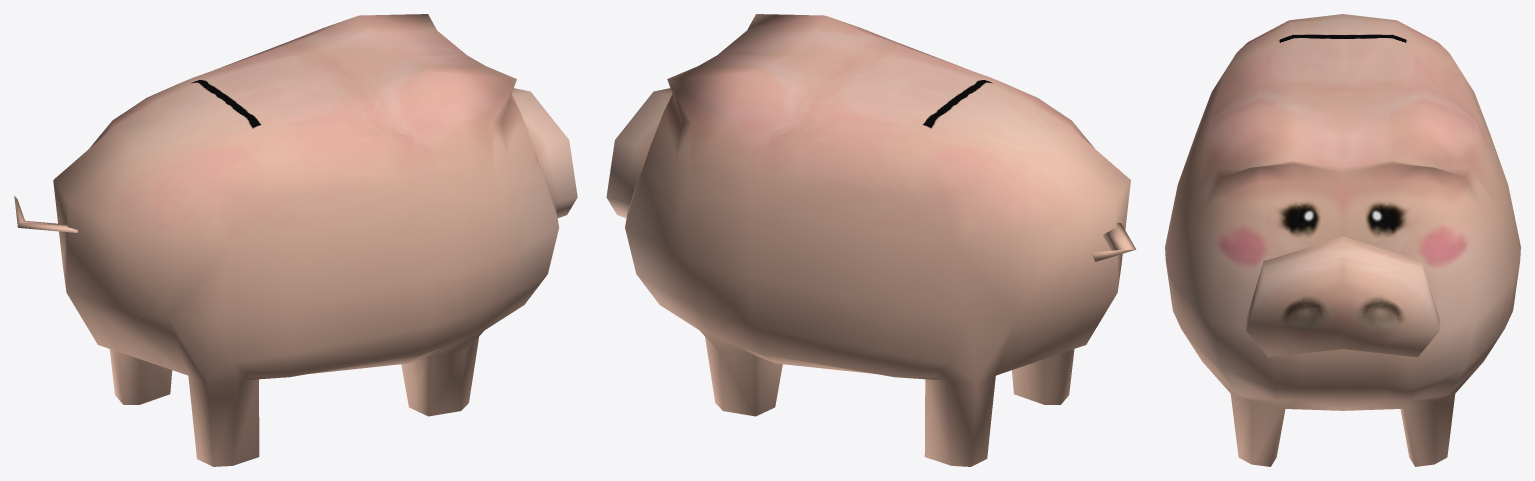
File: cerdito.glb
The picture shows the model from 3 angles, left to right: view 1: azimuth 30°, elevation 25°; view 2: azimuth 150°, elevation 25°; view 3: azimuth 270°, elevation 25°; orthographic projection. The views are drawn at different scales.
Parts seen in each view (by area): view 1: Cube, Cube.001; view 2: Cube, Cube.001; view 3: Cube.
Boxes of the visible parts, left/top/right/bottom form: Cube: left=53, top=14, right=577, bottom=466; Cube.001: left=14, top=196, right=78, bottom=232; Cube: left=606, top=14, right=1130, bottom=466; Cube.001: left=1092, top=222, right=1136, bottom=262; Cube: left=1165, top=14, right=1520, bottom=466.
Size of the model in its own units: 3.53 by 2.25 by 2.13.
Materials: 1 (1 with a texture image).
